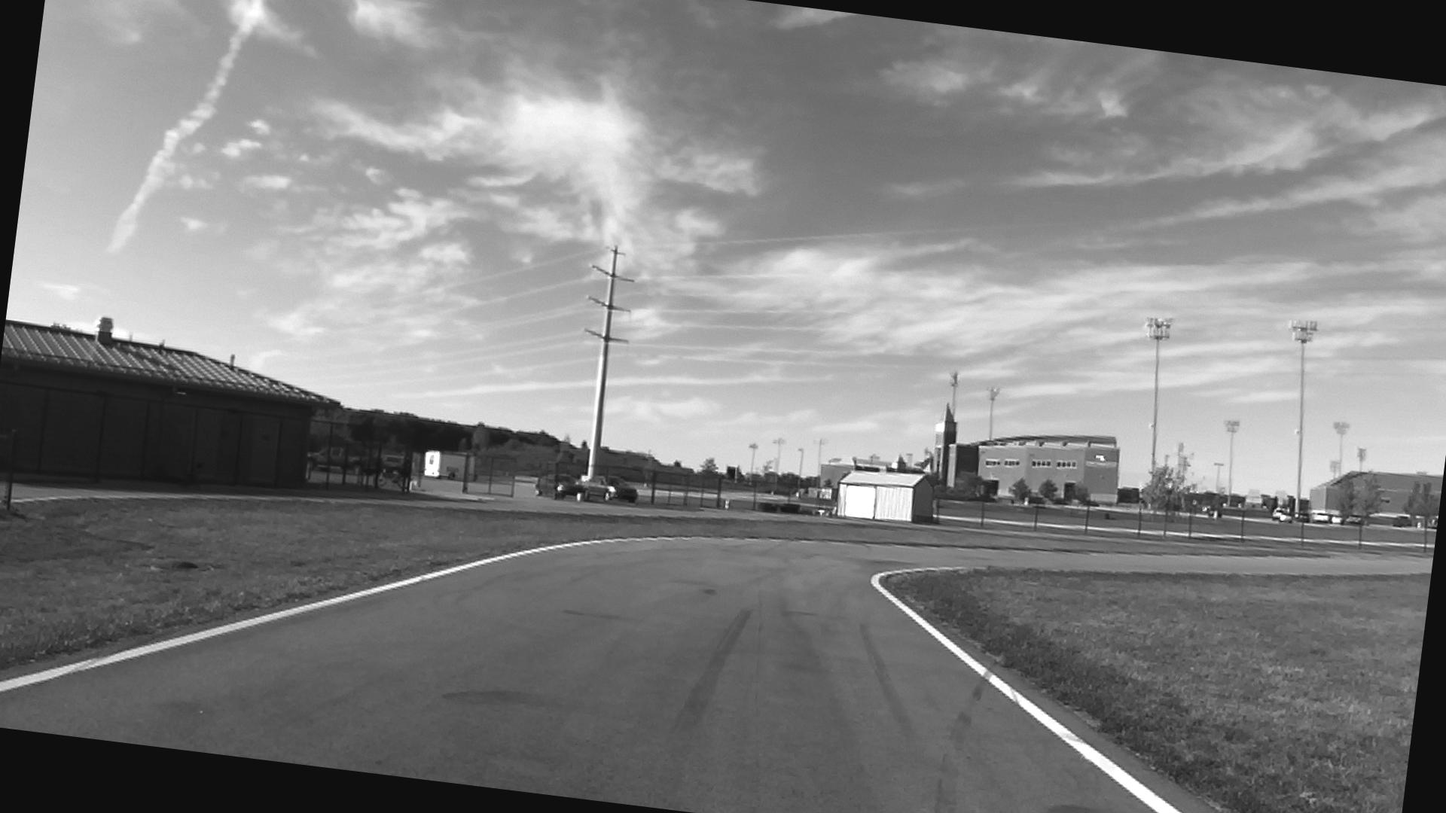white-line: (0, 536, 774, 693), (871, 567, 1182, 813)
